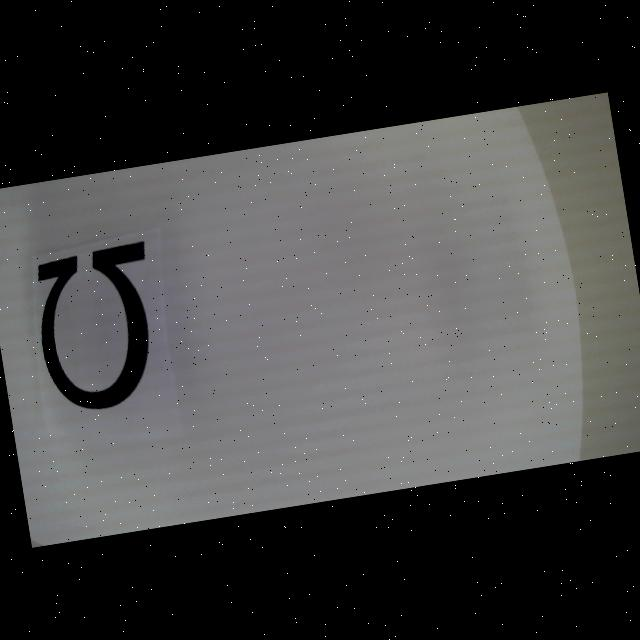OMEGA: (28, 241, 168, 416)
